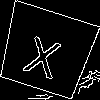X: (21, 26, 66, 80)
